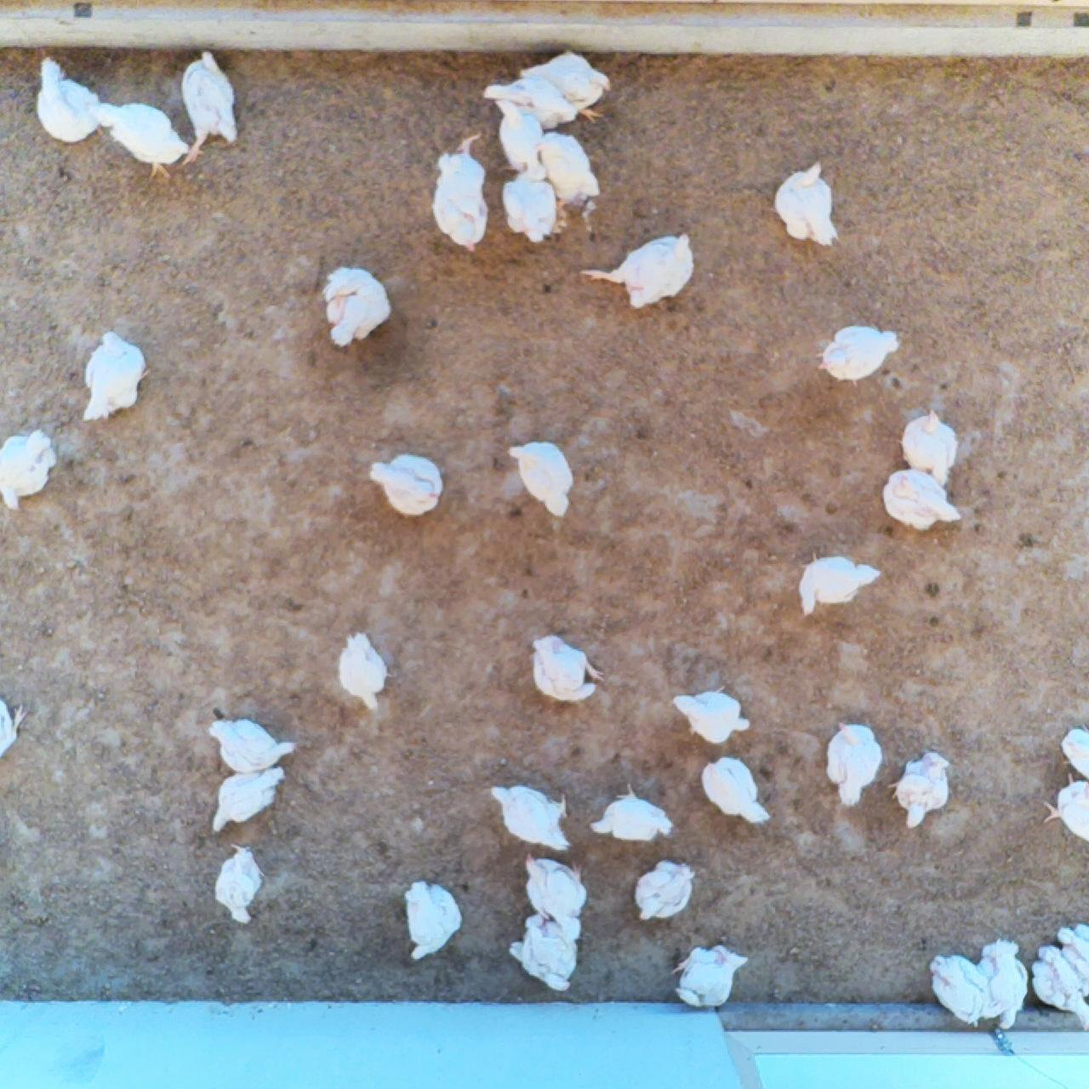chicken: (578, 231, 704, 311), (91, 98, 197, 181), (28, 50, 105, 148), (520, 45, 614, 124), (472, 72, 585, 136), (318, 259, 396, 350), (771, 157, 844, 253), (820, 719, 893, 812), (502, 435, 578, 523), (663, 944, 753, 1018), (913, 944, 989, 1030), (359, 450, 449, 522), (879, 465, 966, 539), (400, 876, 471, 965), (484, 784, 575, 852), (977, 921, 1030, 1037), (885, 748, 959, 830), (698, 755, 773, 835), (179, 55, 242, 149), (798, 550, 893, 612), (498, 168, 565, 255), (419, 183, 493, 261), (818, 318, 904, 383), (86, 328, 143, 425), (533, 630, 605, 706), (206, 767, 289, 832), (203, 718, 298, 773), (537, 123, 600, 203), (629, 861, 705, 927), (518, 918, 579, 1000), (437, 137, 493, 224), (903, 408, 961, 492), (211, 845, 269, 927), (522, 858, 590, 927), (2, 431, 56, 514), (333, 627, 389, 706), (670, 690, 751, 744), (594, 788, 668, 846), (496, 101, 550, 180), (1036, 946, 1089, 1025), (1044, 775, 1089, 858), (1058, 714, 1089, 798), (1054, 915, 1089, 987), (1, 691, 30, 760)
